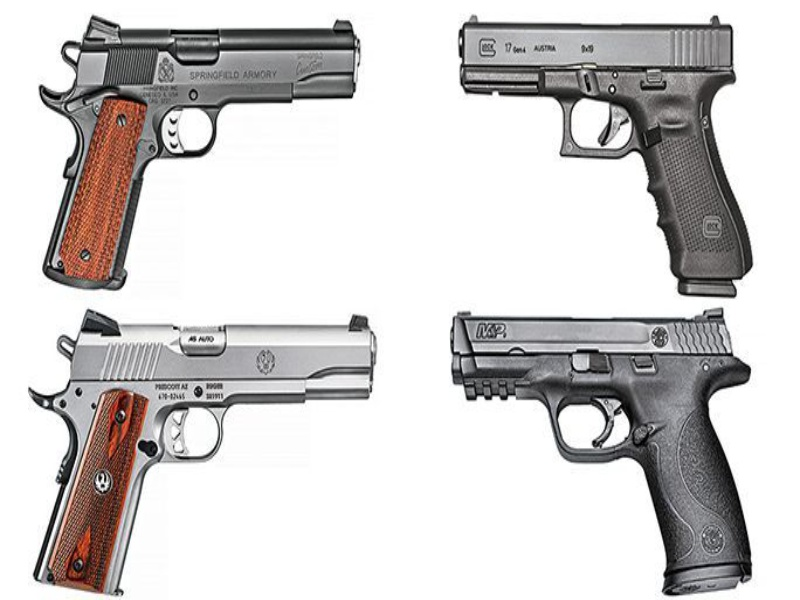gun: (21, 308, 389, 591), (31, 5, 380, 296), (443, 308, 763, 590), (455, 11, 750, 298)
